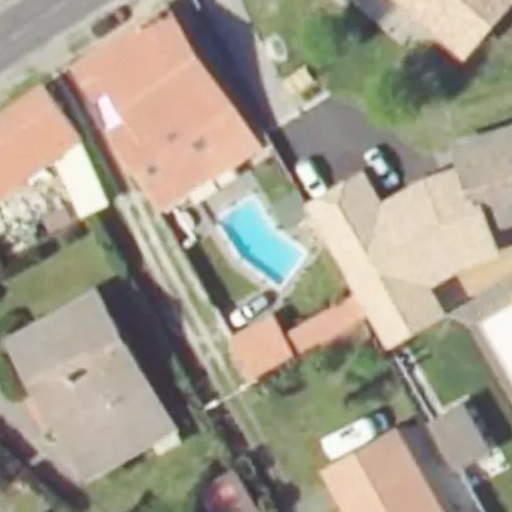pool: (201, 222, 308, 260)
